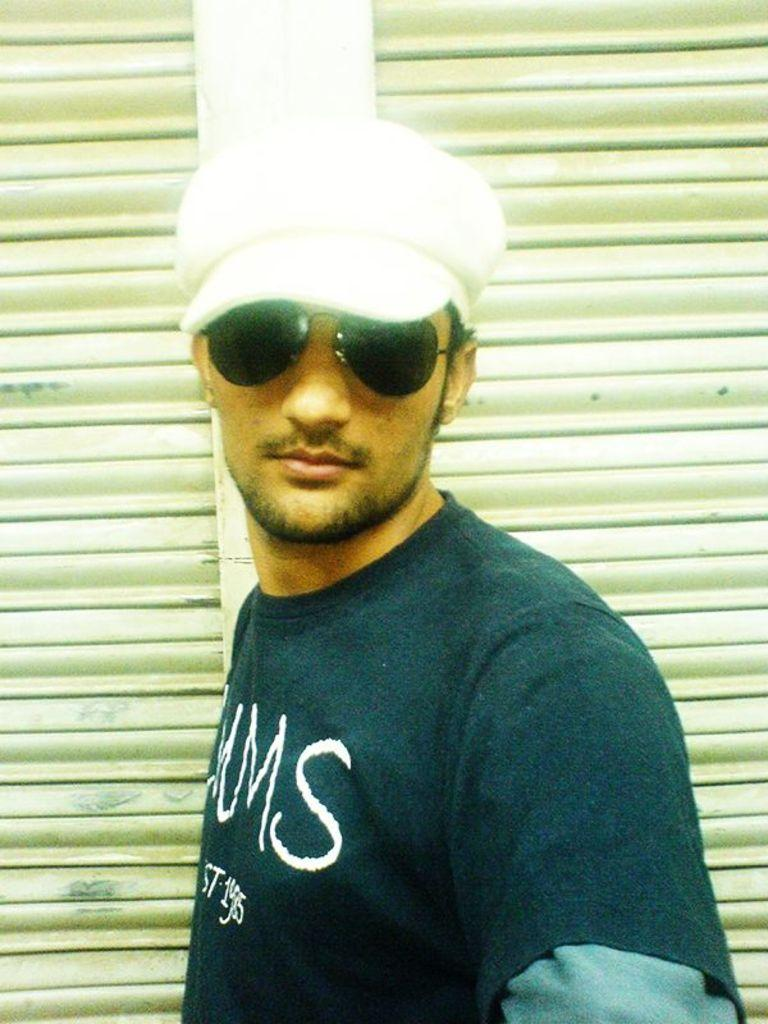Hat: (176, 115, 510, 331)
